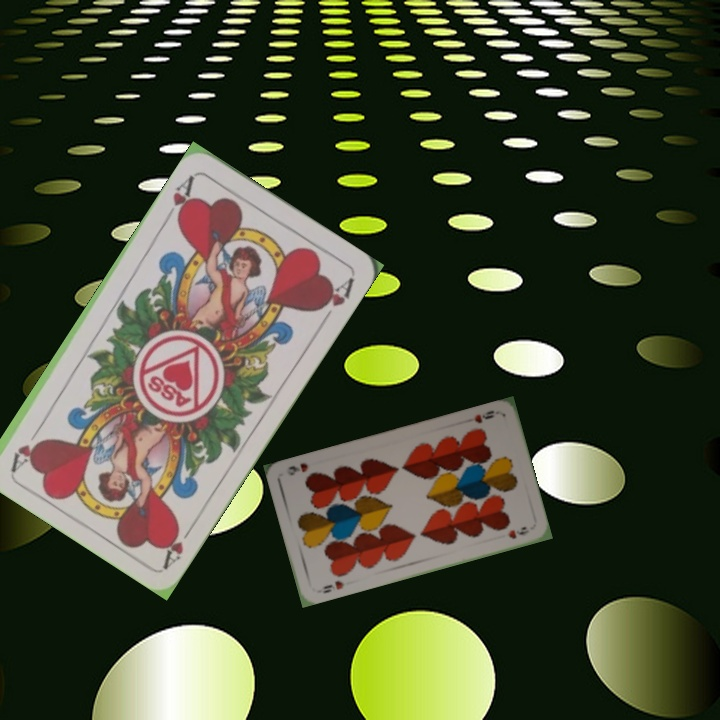H9: (319, 576, 347, 596), (470, 406, 497, 426)
HA: (159, 517, 199, 570), (160, 170, 198, 225)
